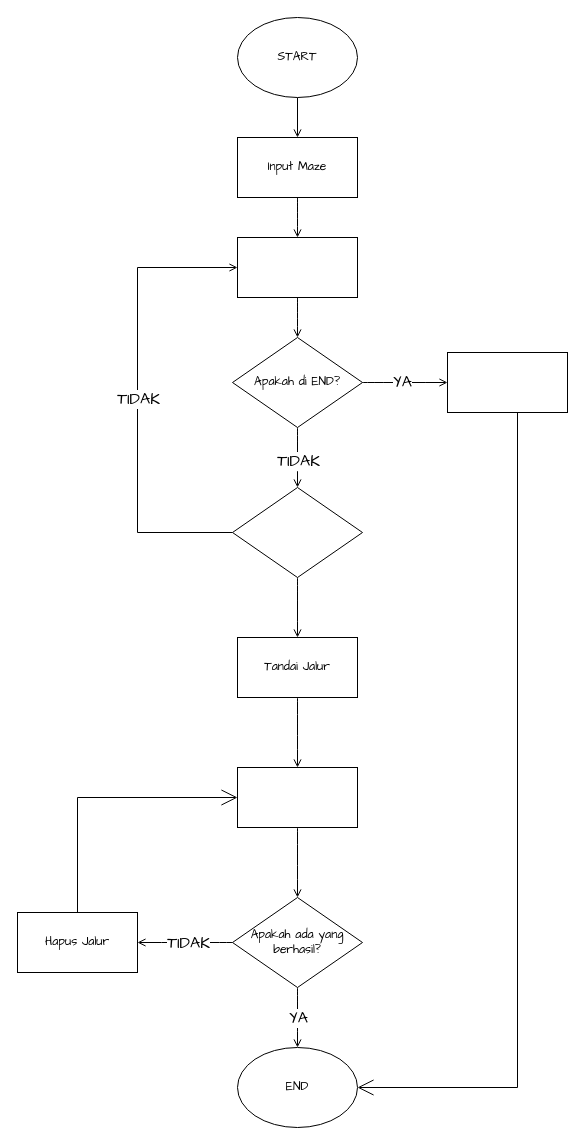
The diagram is 585 pixels wide and 1145 high, and some of its shapes have lost their labels. Here are the shapes that lost their labels. From the top down, the centre of each, then its label:
the point at 297,267: Posisi = START
the point at 507,382: Tampilkan Solusi
the point at 297,532: Apakah jalur aman?
the point at 297,797: Coba 4 Arah
